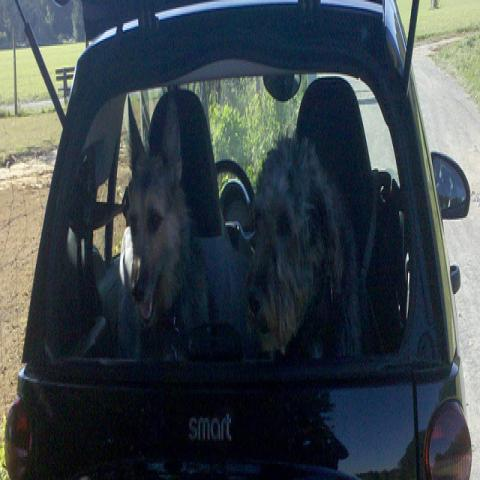car: (5, 0, 472, 478)
